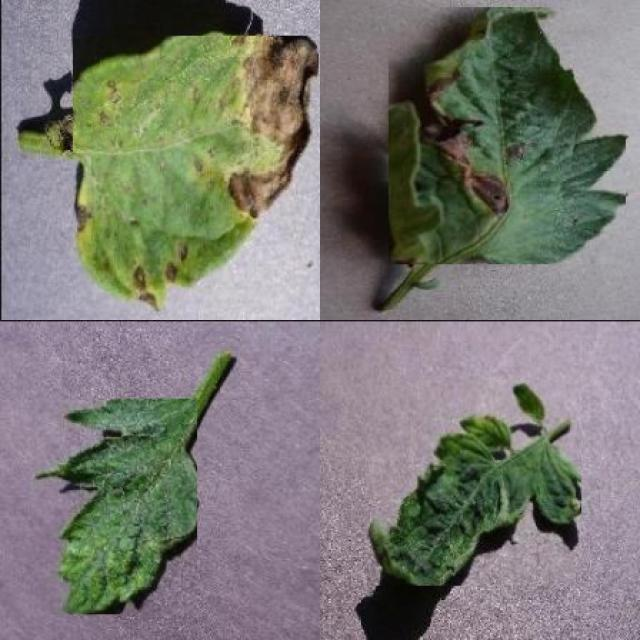Early Blight: (389, 8, 625, 265)
Mosaic Virus: (364, 381, 582, 586), (35, 399, 198, 614)
Septoria: (74, 36, 319, 311)
